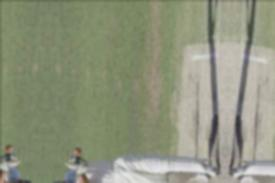batsman: (56, 140, 228, 183)
